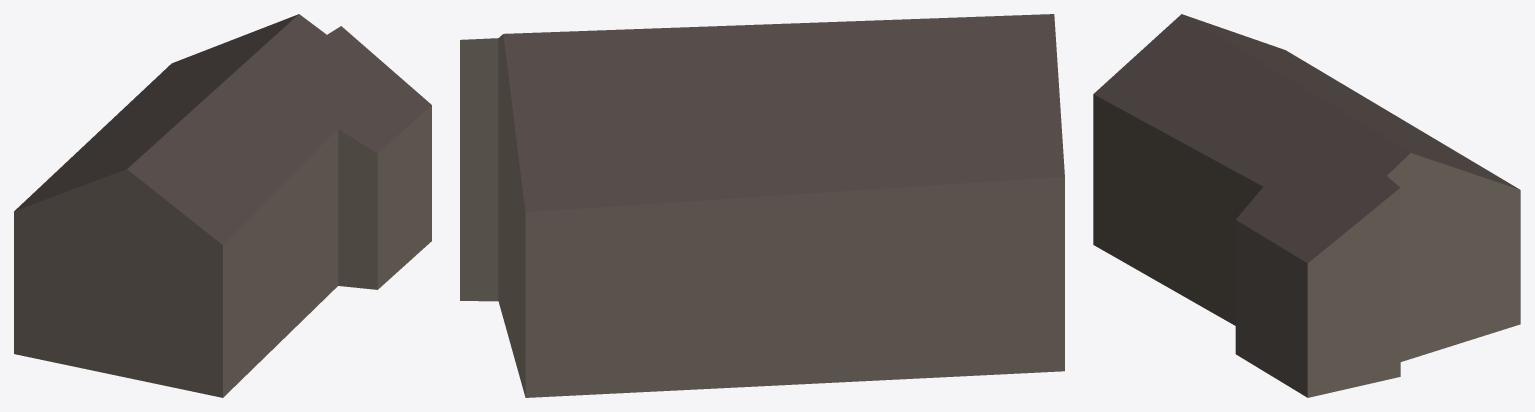
3 views of the same model, side by side, from view 1: azimuth 30°, elevation 25°; view 2: azimuth 150°, elevation 25°; view 3: azimuth 270°, elevation 25° (orthographic). The views are drawn at different scales.
Visible parts, largest first — view 1: HP-w1515076932; view 2: HP-w1515076932; view 3: HP-w1515076932.
Boxes of the visible parts, bbox=[...] form: HP-w1515076932: bbox=[14, 14, 431, 397]; HP-w1515076932: bbox=[460, 14, 1064, 397]; HP-w1515076932: bbox=[1093, 14, 1520, 397].
Bounding box in the file's own units: 19.8 × 9.2 × 17.27.
